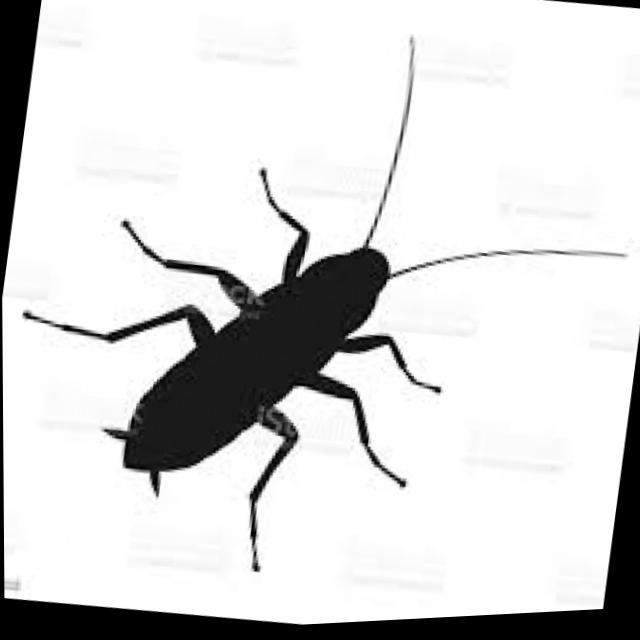Cockroach: (26, 54, 564, 598)
